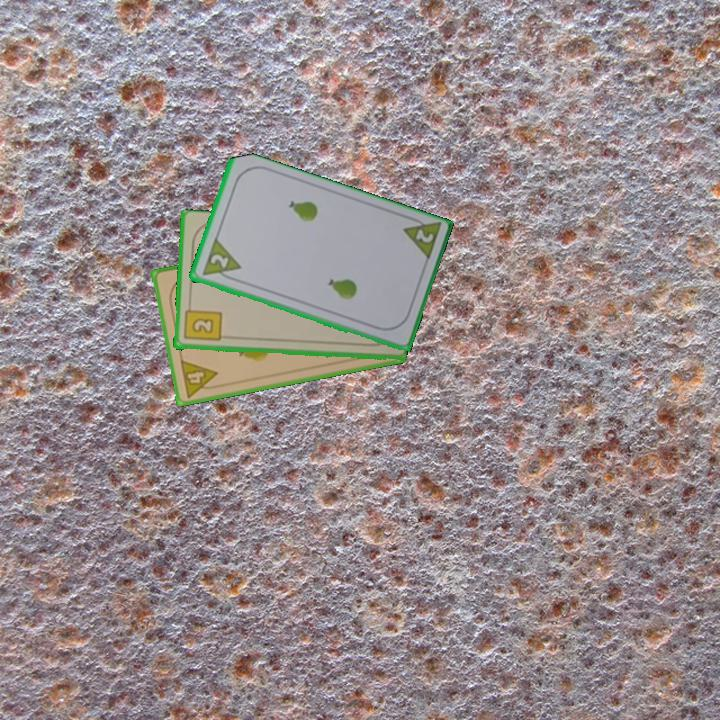2b: (180, 301, 224, 344)
2p: (399, 212, 443, 265), (198, 236, 244, 285)
4p: (177, 356, 223, 400)
